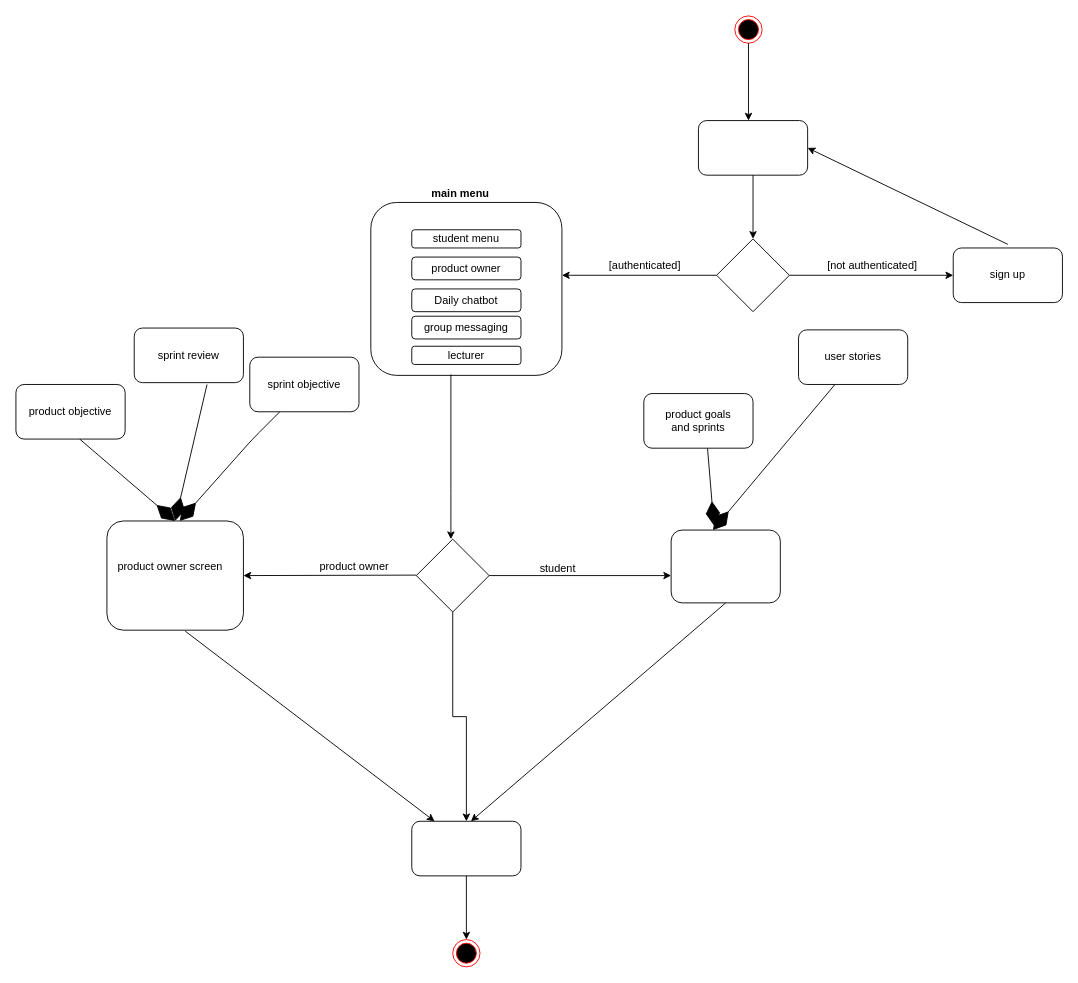
The diagram is 1078 pixels wide and 983 high, and some of its shapes have lost their labels. Here are the shapes that lost their labels. From the top down, the box of each, then its label:
(698, 120, 808, 175): user login
(670, 529, 780, 603): student screen
(411, 820, 521, 876): lecturer sceen (marking purpose)
